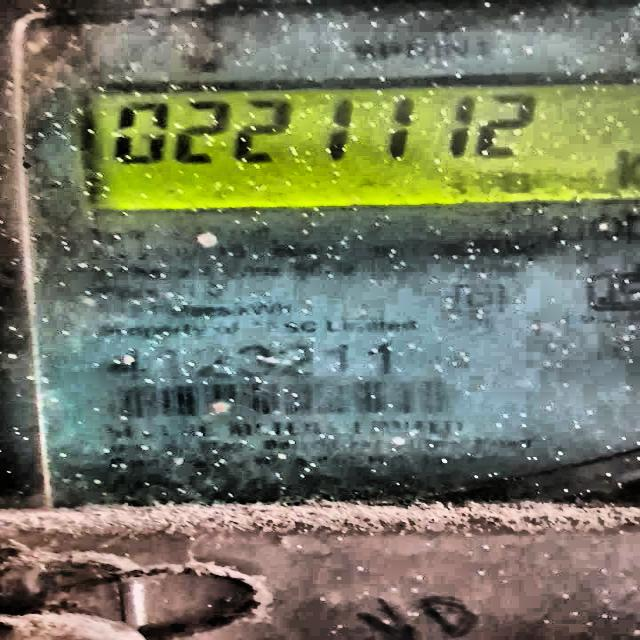Digital: (0, 0, 640, 563)
Reading: (98, 95, 565, 168)
Serial No.: (93, 344, 424, 382)
